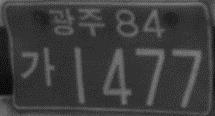1: (72, 44, 87, 105)
4: (102, 47, 132, 104), (140, 7, 166, 39)
7: (169, 48, 204, 109), (134, 46, 165, 107)
8: (114, 8, 139, 39)
가: (19, 44, 55, 88)
광주_O: (48, 7, 105, 37)
